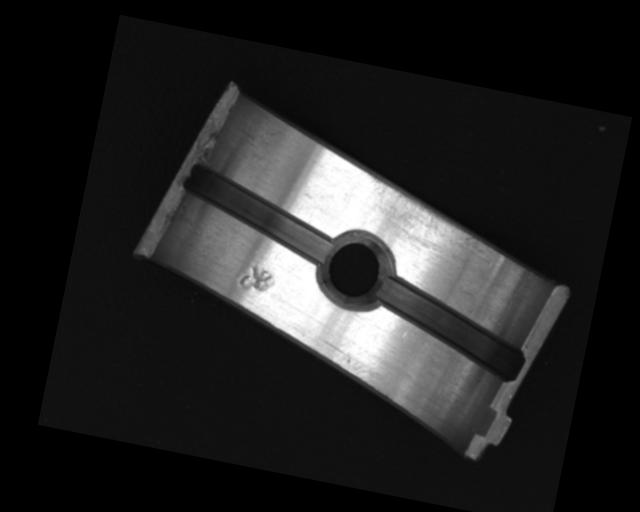bruise: (233, 259, 278, 296)
gap: (361, 272, 536, 384), (173, 163, 340, 265)
hole: (310, 225, 400, 315)
scratch: (348, 169, 498, 258)
